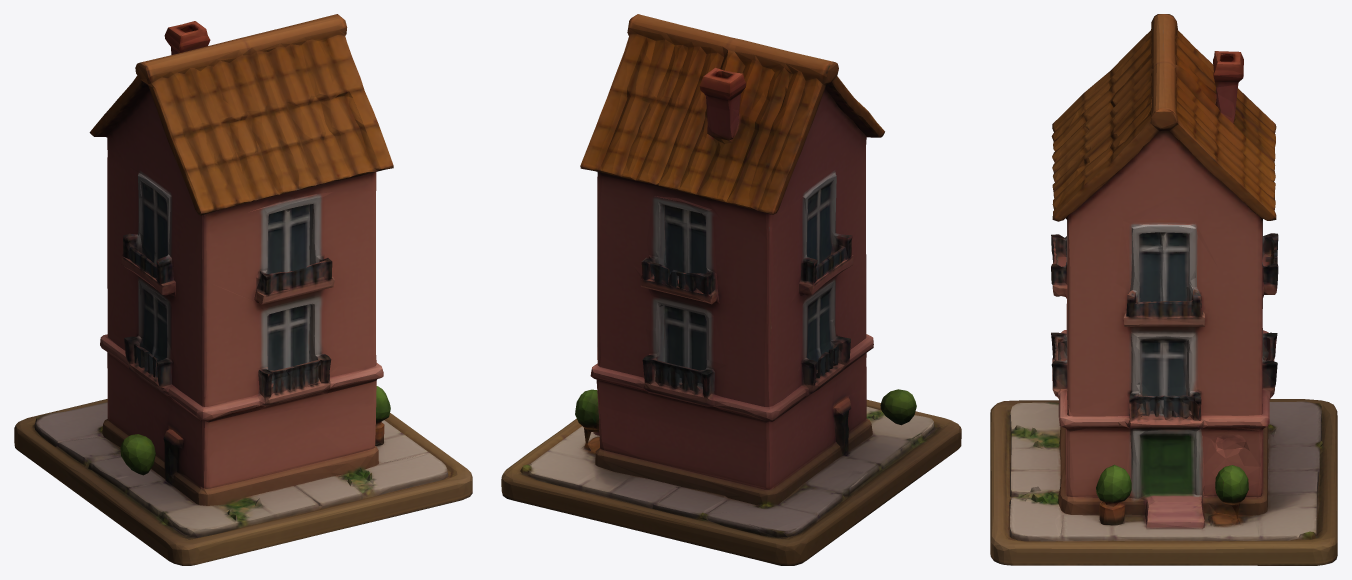
The model's file is casa_relleno_3.glb.
3 views of the same model, side by side, from view 1: azimuth 30°, elevation 25°; view 2: azimuth 150°, elevation 25°; view 3: azimuth 270°, elevation 25° (orthographic).
Parts seen in each view (by area): view 1: world; view 2: world; view 3: world.
Part boxes in pixels (left/top/right/bottom): world: left=14, top=14, right=472, bottom=565; world: left=501, top=14, right=961, bottom=565; world: left=990, top=14, right=1337, bottom=565.
Size of the model in its own units: 0.4164 by 0.5659 by 0.4143.
1 material, 1 textured.
